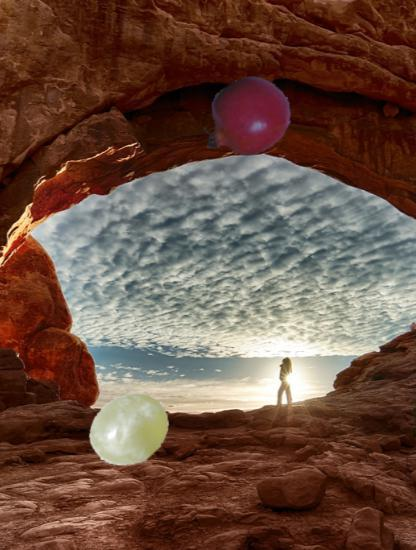Grape: (88, 388, 172, 472)
Pomegranate: (197, 71, 293, 167)
